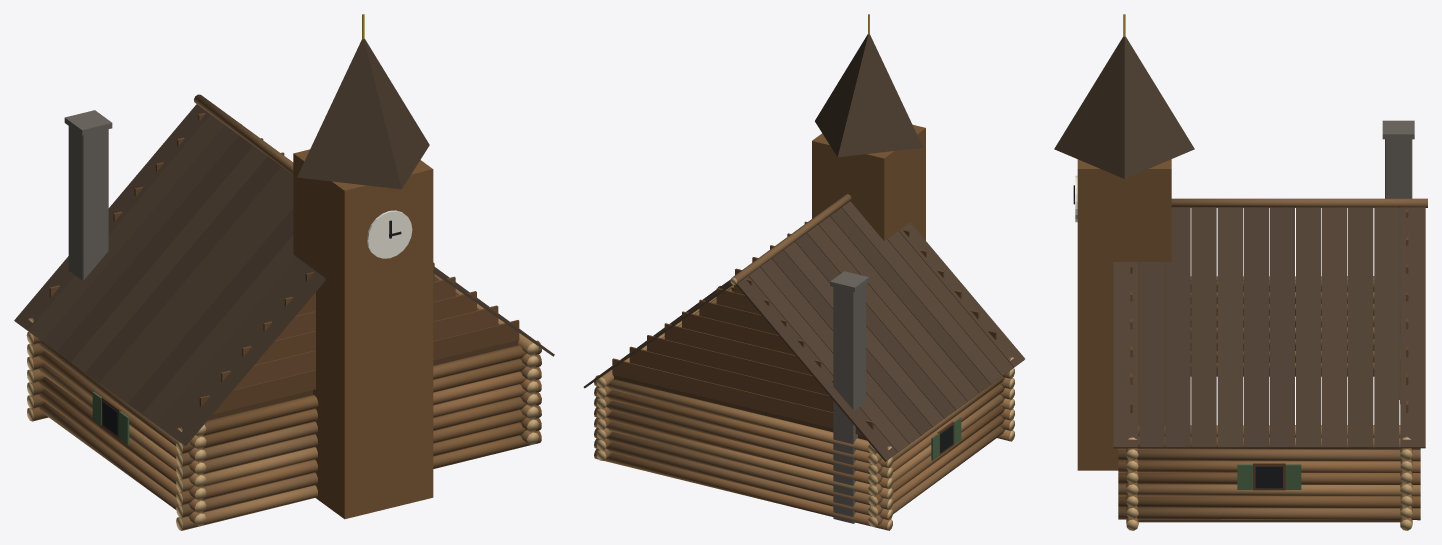
File: townhall_1.glb
3 views of the same model, side by side, from view 1: azimuth 30°, elevation 25°; view 2: azimuth 150°, elevation 25°; view 3: azimuth 270°, elevation 25° (orthographic). The views are drawn at different scales.
Parts seen in each view (by area): view 1: townhall1_roof, townhall1_wood, townhall1_log, townhall1_tiles, townhall1_stone; view 2: townhall1_roof, townhall1_log, townhall1_wood, townhall1_tiles, townhall1_stone; view 3: townhall1_roof, townhall1_log, townhall1_wood, townhall1_tiles, townhall1_stone, townhall1_glass.
Part boxes in pixels (left/top/right/bottom): townhall1_roof: left=14, top=104, right=554, bottom=446; townhall1_wood: left=49, top=113, right=519, bottom=519; townhall1_log: left=26, top=94, right=541, bottom=530; townhall1_tiles: left=297, top=39, right=429, bottom=189; townhall1_stone: left=64, top=110, right=412, bottom=280; townhall1_roof: left=583, top=201, right=1024, bottom=461; townhall1_log: left=594, top=194, right=1014, bottom=530; townhall1_wood: left=612, top=125, right=996, bottom=460; townhall1_tiles: left=815, top=34, right=922, bottom=157; townhall1_stone: left=830, top=271, right=868, bottom=523; townhall1_roof: left=1113, top=207, right=1425, bottom=448; townhall1_log: left=1118, top=198, right=1427, bottom=530; townhall1_wood: left=1077, top=159, right=1408, bottom=522; townhall1_tiles: left=1054, top=36, right=1194, bottom=178; townhall1_stone: left=1075, top=120, right=1414, bottom=399; townhall1_glass: left=1255, top=466, right=1282, bottom=488.
Size of the model in its own units: 10.04 by 12.3 by 9.55.
